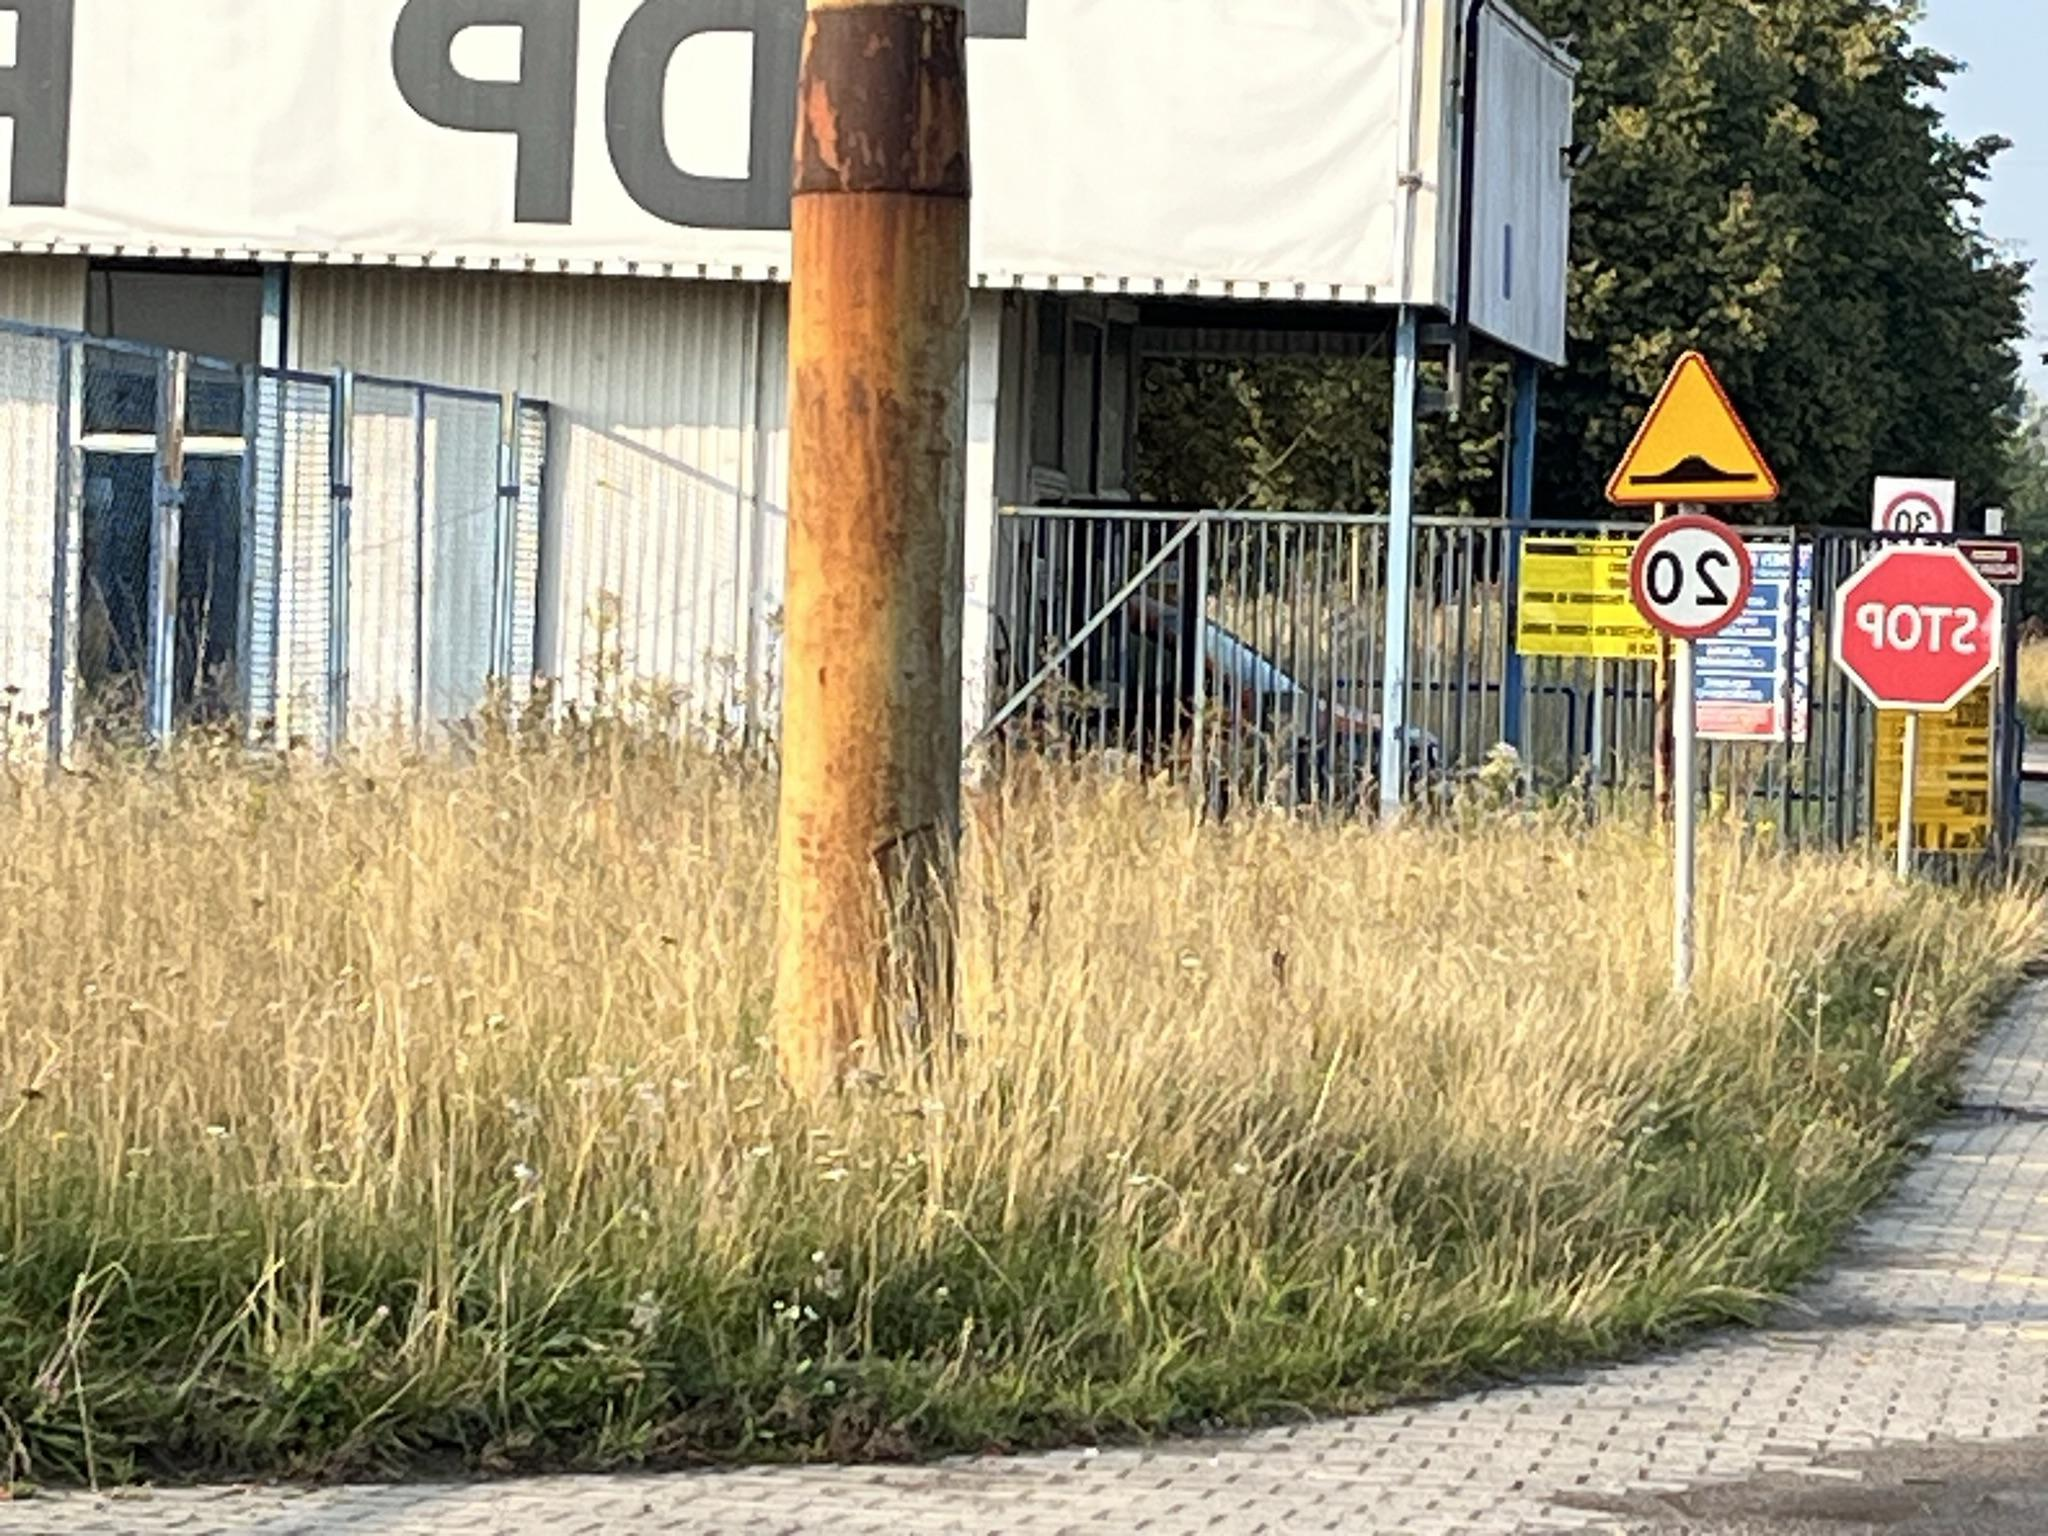prohibitory: (1834, 544, 2000, 712), (1630, 515, 1751, 637), (1882, 489, 1945, 531)
warning: (1605, 349, 1780, 507)
